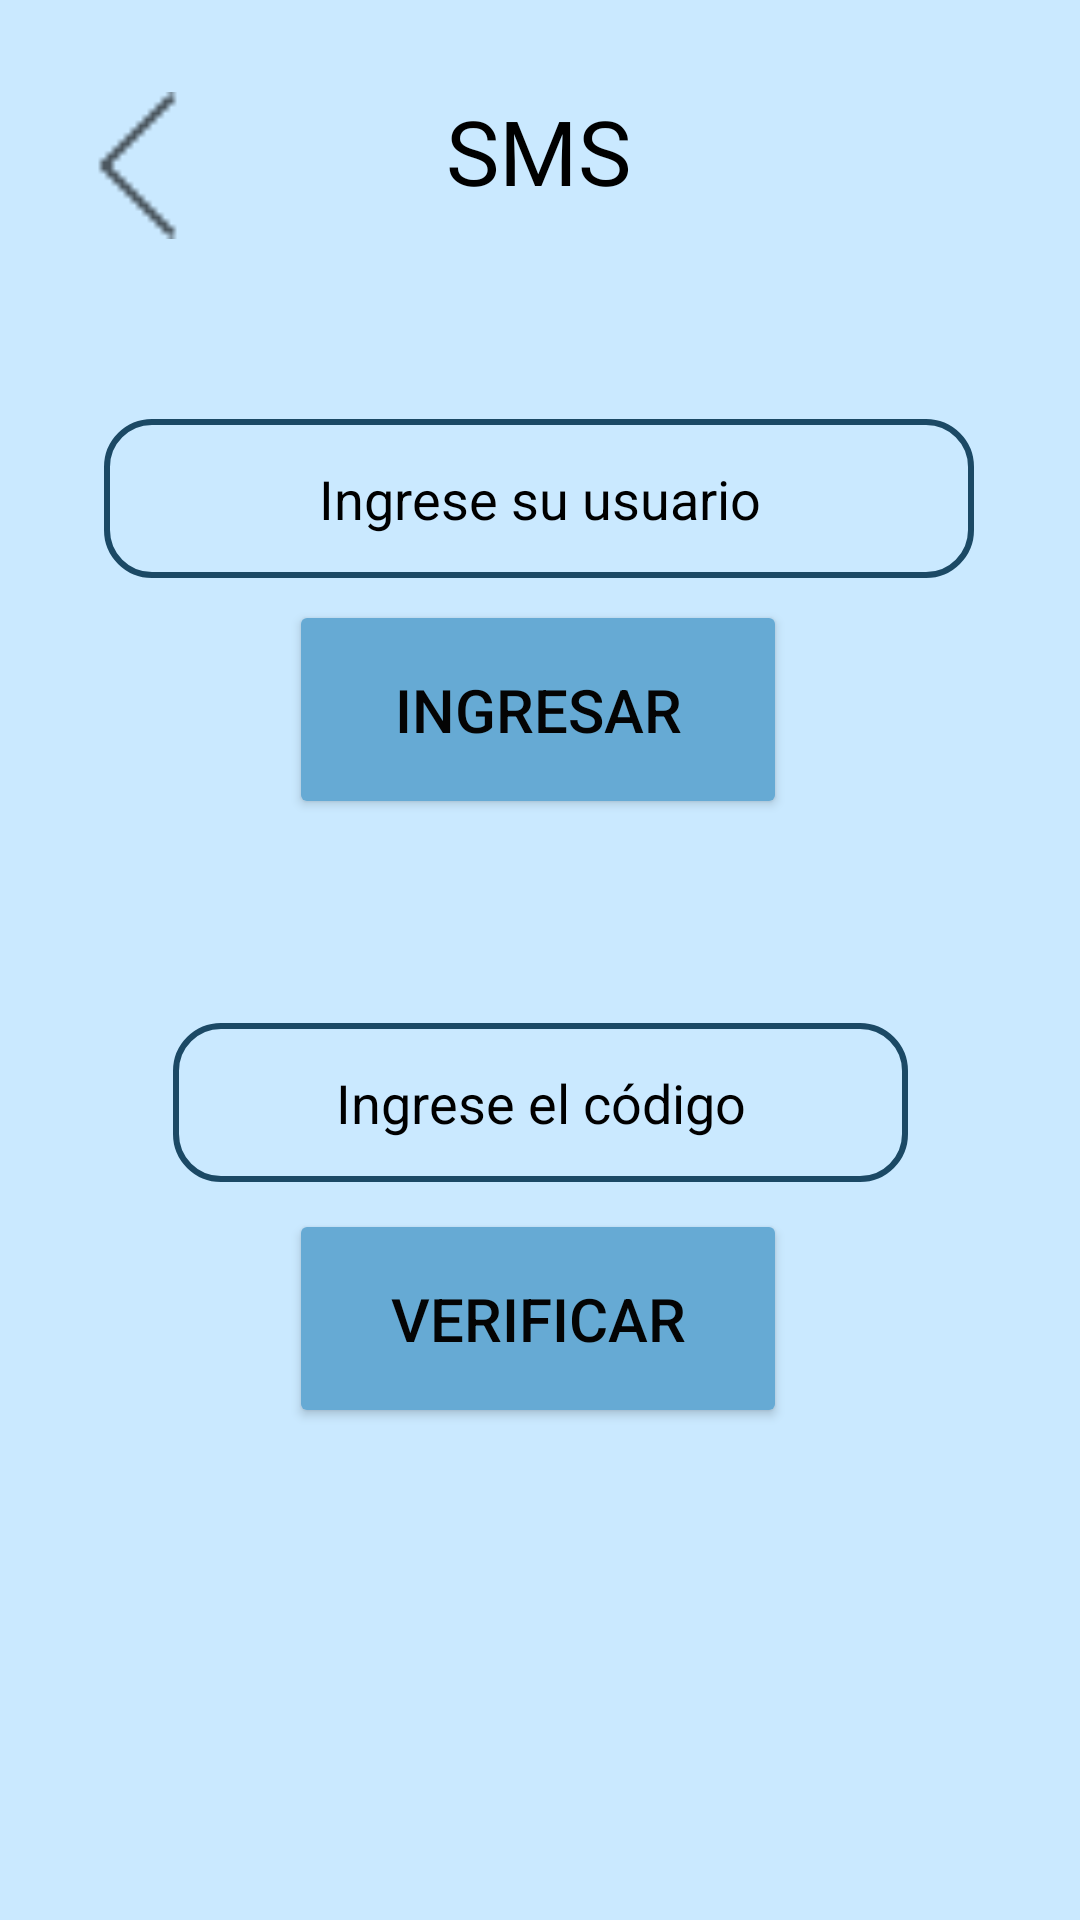

Screen size 1080x1920. Icon name, then its box in pixels as (x1, y1, x2, y2):
flecha: (99, 92, 176, 239)
